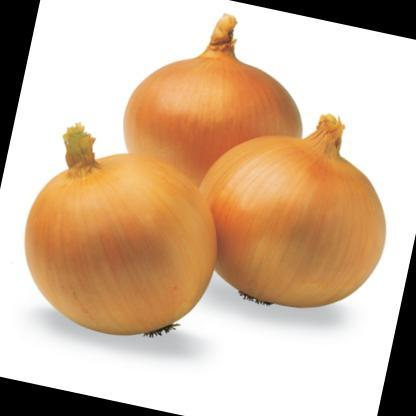onion: (0, 118, 252, 365)
